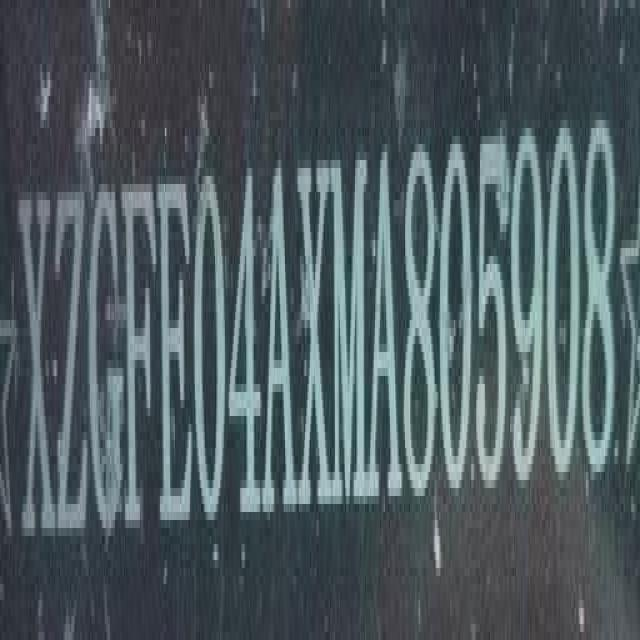0: (439, 133, 475, 501), (192, 169, 227, 536), (546, 122, 582, 477)
4: (228, 154, 263, 525)
5: (477, 133, 508, 498)
8: (583, 118, 617, 489), (402, 148, 438, 498)
9: (512, 118, 545, 489)
A: (263, 151, 298, 516), (370, 136, 404, 504)
E: (156, 166, 194, 536)
F: (123, 157, 158, 545)
G: (88, 175, 124, 554)
M: (333, 145, 368, 516)
X: (19, 187, 56, 539), (298, 142, 332, 524)
Z: (54, 172, 90, 554)
